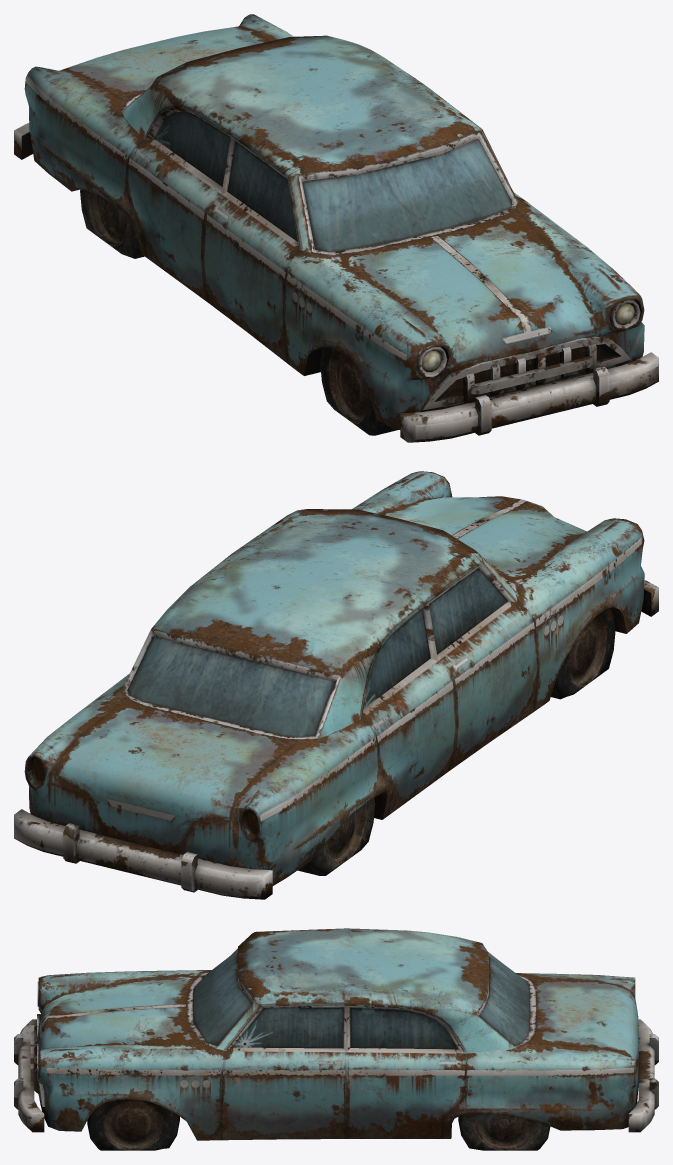
Rendered from car.glb.
3 renders of one model, top to bottom at view 1: azimuth 30°, elevation 25°; view 2: azimuth 150°, elevation 25°; view 3: azimuth 270°, elevation 25°, orthographic. The views are drawn at different scales.
Visible parts, largest first — view 1: Object006_Material #294_0.001; view 2: Object006_Material #294_0.001; view 3: Object006_Material #294_0.001.
Boxes of the visible parts, x1,y1,x2,y2 form: Object006_Material #294_0.001: (14, 14, 658, 442); Object006_Material #294_0.001: (14, 471, 658, 899); Object006_Material #294_0.001: (14, 928, 658, 1150).
Size of the model in its own units: 130 by 91.96 by 362.
2 materials, 2 textured.
